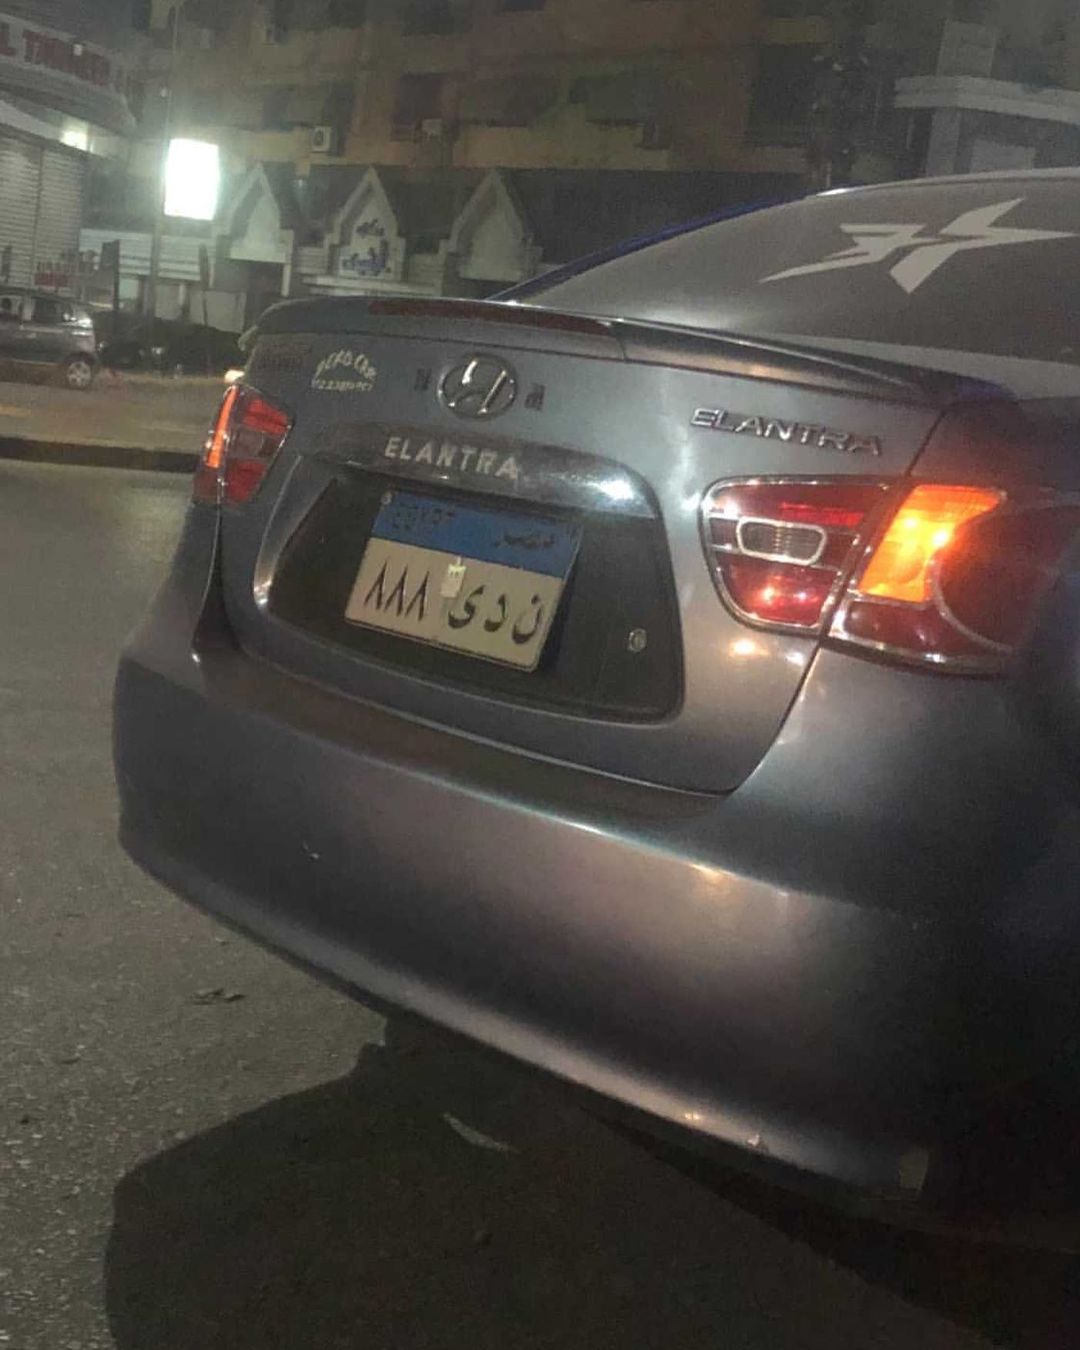carpl: (353, 481, 589, 673)
